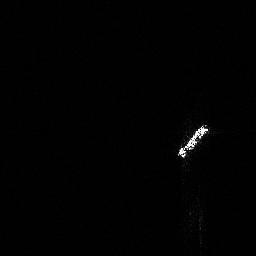ship: (174, 120, 213, 162)
